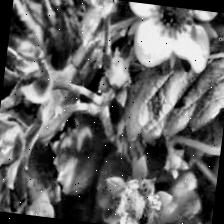Blossom Blight: (113, 178, 165, 224)
